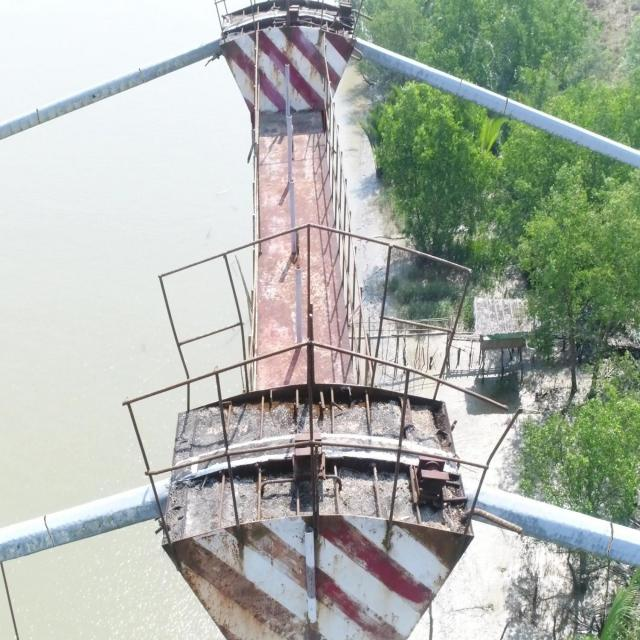crack: (42, 514, 56, 546), (606, 522, 615, 557), (456, 79, 463, 96), (502, 98, 509, 114), (36, 108, 41, 125), (138, 68, 144, 82)
